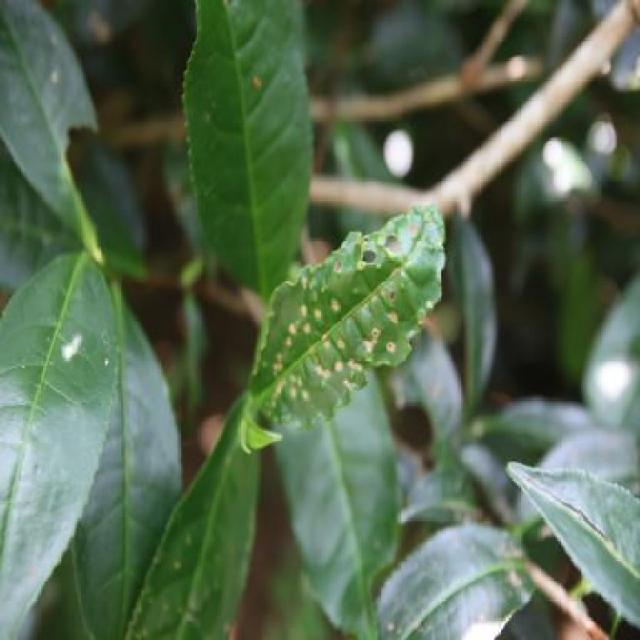Tea Mosquito bug infested leaf: (254, 209, 448, 449)
